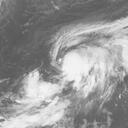cyclone: (62, 45, 114, 91)
